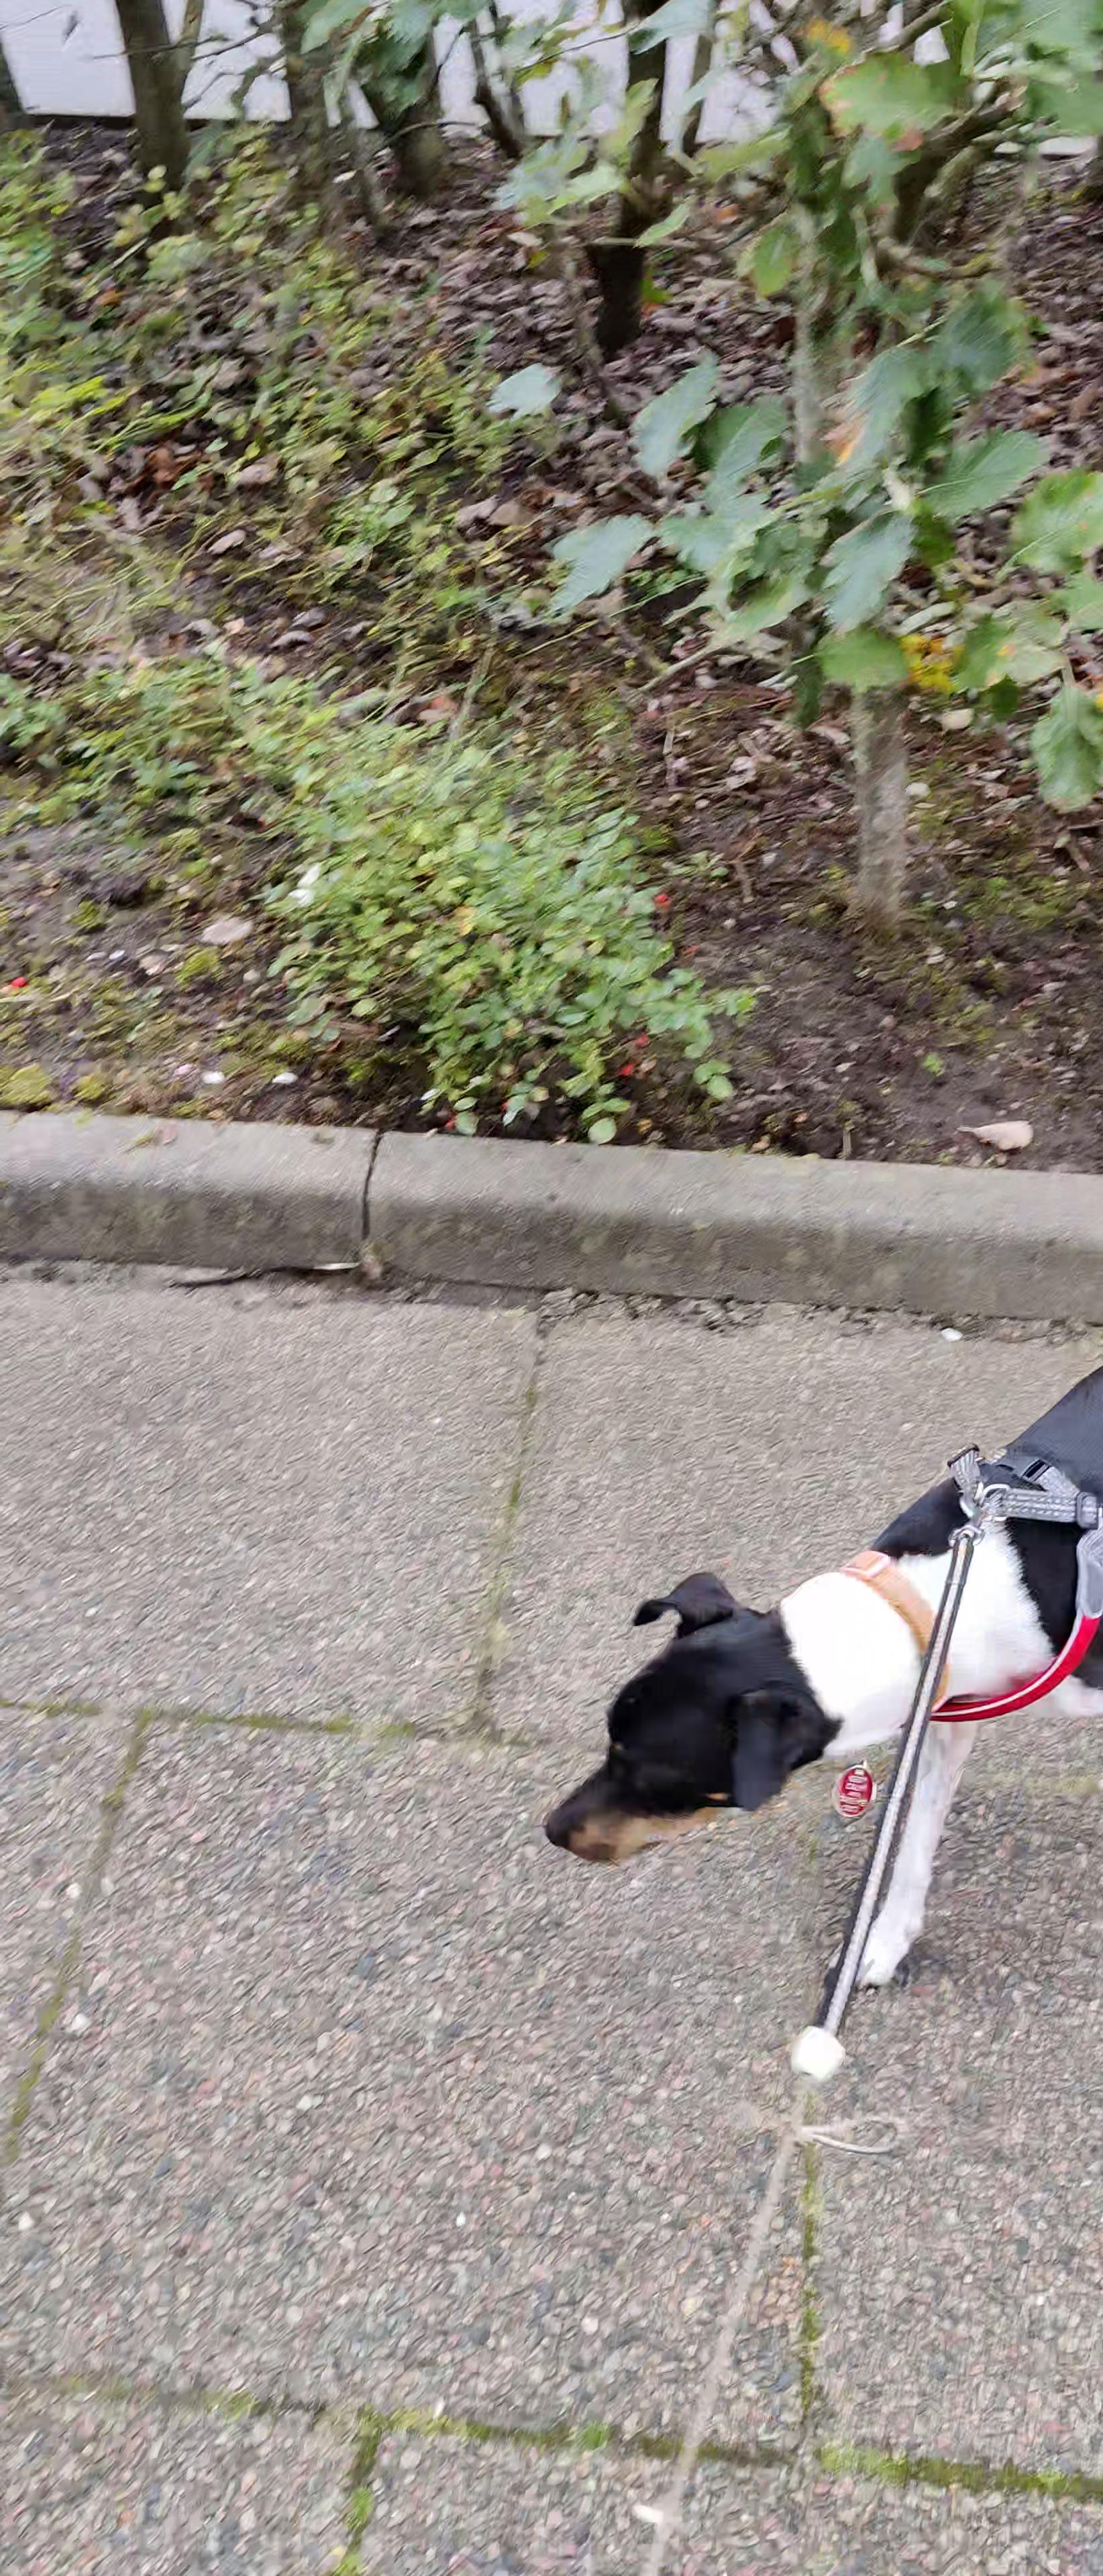Dog: (495, 1342, 1103, 2001)
